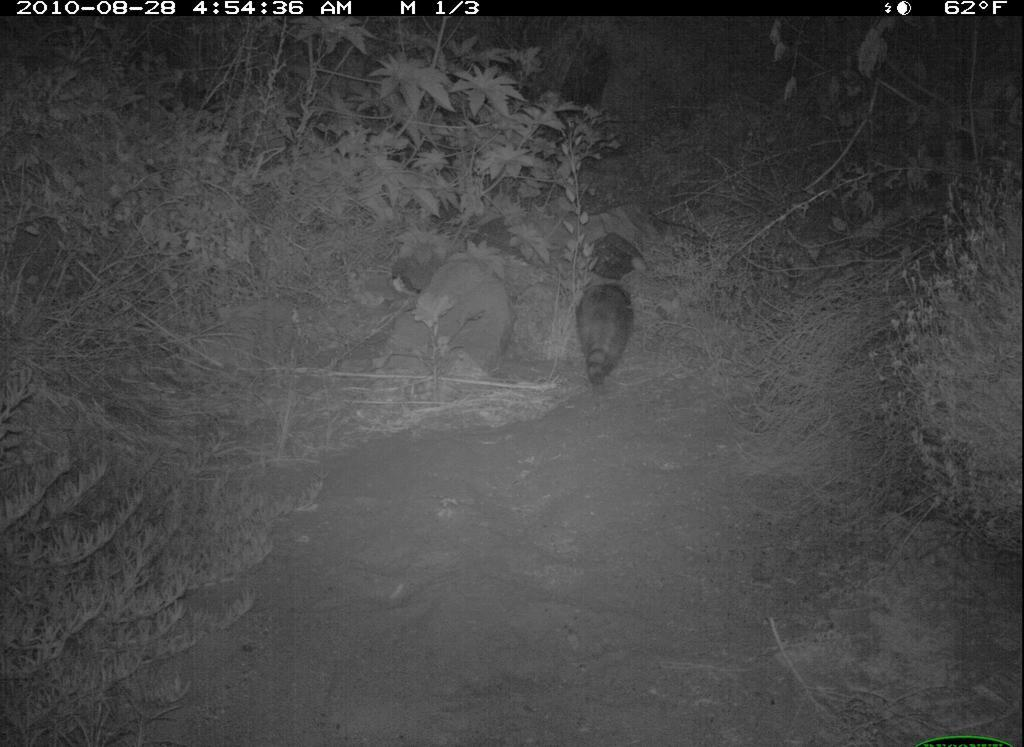raccoon: (569, 273, 649, 394)
